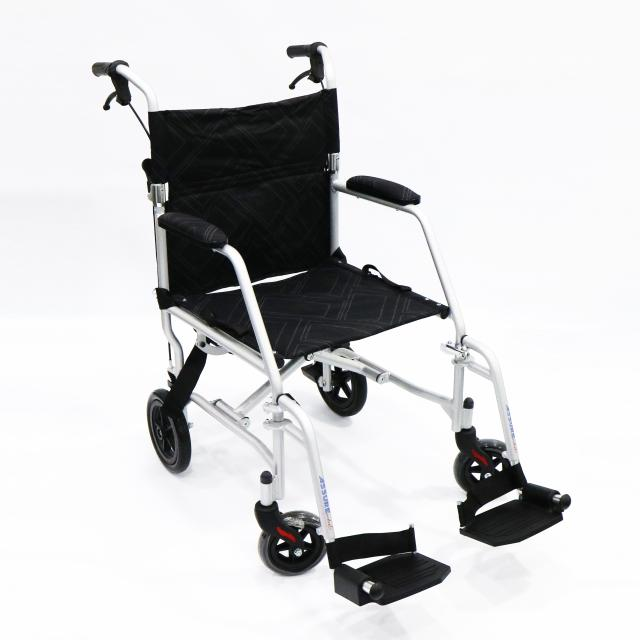wheelchair: (90, 29, 594, 618)
